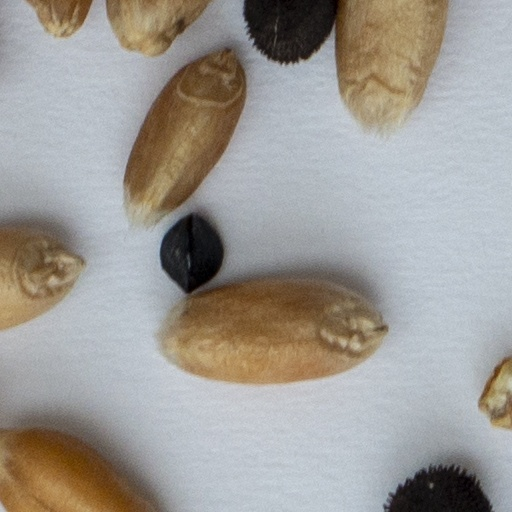Wheat-grain-damaged-poly: (473, 352, 511, 432)
